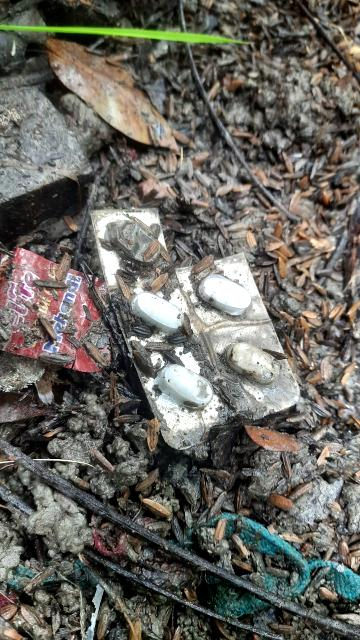medicine: (81, 150, 319, 456)
